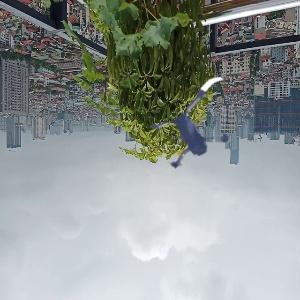drone: (143, 73, 263, 193)
